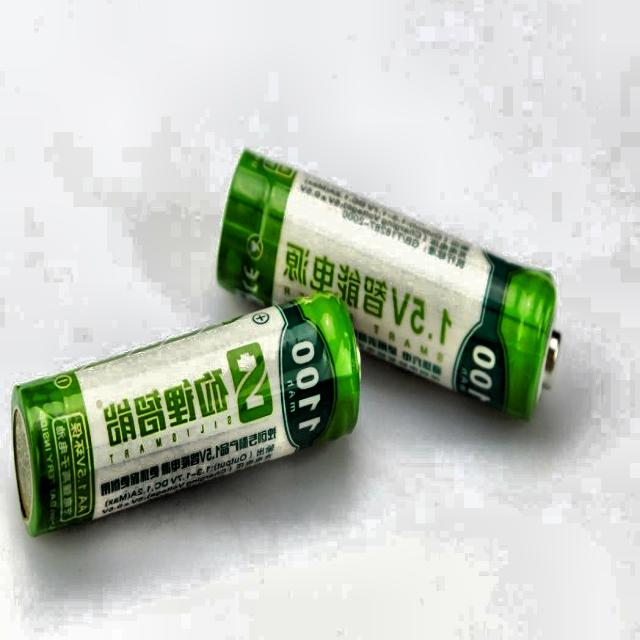Non-Valuable Waste - Batteries: (218, 154, 558, 420), (12, 294, 359, 535)
